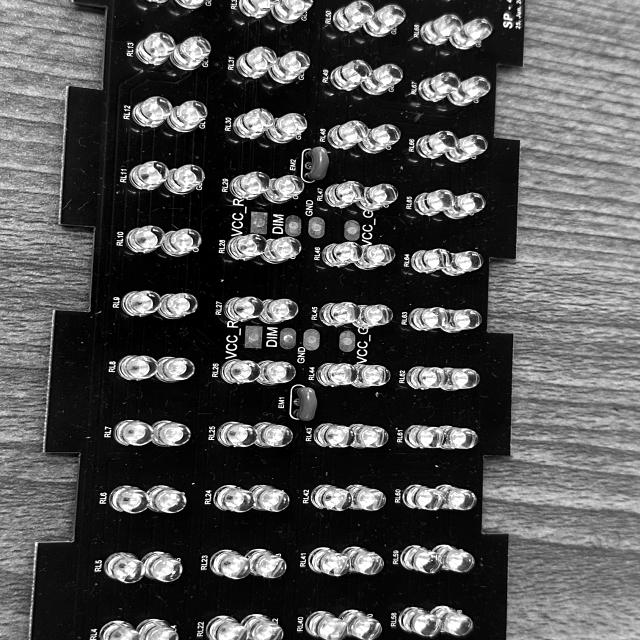EMC filter: (305, 146, 329, 182), (293, 386, 317, 421)
led: (338, 605, 384, 640), (429, 603, 475, 638), (451, 14, 494, 51), (434, 421, 482, 454), (306, 545, 352, 579), (431, 480, 478, 513), (398, 421, 448, 451), (346, 418, 390, 452), (234, 611, 285, 640), (415, 70, 461, 102), (343, 300, 392, 330), (398, 604, 442, 637), (248, 421, 298, 450), (303, 608, 348, 640), (206, 548, 251, 580), (431, 542, 476, 574), (134, 30, 175, 65), (247, 480, 289, 514), (231, 107, 273, 141), (365, 2, 407, 36), (329, 58, 372, 91), (433, 364, 480, 394), (105, 551, 146, 585), (170, 36, 211, 70), (272, 50, 313, 84), (142, 549, 185, 581), (244, 546, 287, 578), (235, 46, 278, 78), (331, 0, 374, 32), (452, 74, 492, 108), (403, 483, 448, 513), (108, 482, 150, 514), (343, 478, 385, 510), (124, 222, 166, 254), (156, 228, 204, 256), (310, 483, 356, 512), (258, 237, 304, 266), (400, 543, 443, 574), (154, 354, 197, 385), (410, 304, 454, 334), (413, 246, 457, 276), (349, 243, 396, 271), (315, 362, 360, 391), (120, 289, 162, 320), (229, 170, 271, 201), (364, 61, 402, 95), (341, 544, 384, 574), (213, 484, 256, 514), (151, 416, 194, 446), (422, 14, 462, 46), (131, 158, 168, 192), (270, 112, 307, 146), (133, 96, 171, 129), (170, 100, 209, 132), (329, 120, 368, 152), (203, 613, 249, 640), (147, 484, 188, 514), (160, 290, 199, 321), (165, 164, 204, 195), (115, 352, 158, 380), (322, 240, 365, 268), (416, 130, 456, 160), (324, 180, 366, 208), (412, 188, 454, 216), (450, 133, 489, 163), (404, 365, 447, 392), (218, 420, 258, 449), (440, 252, 484, 278), (118, 416, 156, 446), (363, 124, 401, 154), (314, 424, 356, 451), (256, 359, 298, 386), (318, 300, 360, 327), (347, 364, 392, 389), (265, 174, 305, 202), (220, 359, 259, 387), (224, 234, 266, 260), (224, 295, 264, 322), (273, 0, 316, 25), (256, 298, 297, 324), (359, 183, 398, 210), (448, 191, 483, 221), (441, 310, 481, 335), (97, 618, 142, 640), (137, 618, 179, 640), (238, 0, 282, 19), (174, 0, 216, 8)
